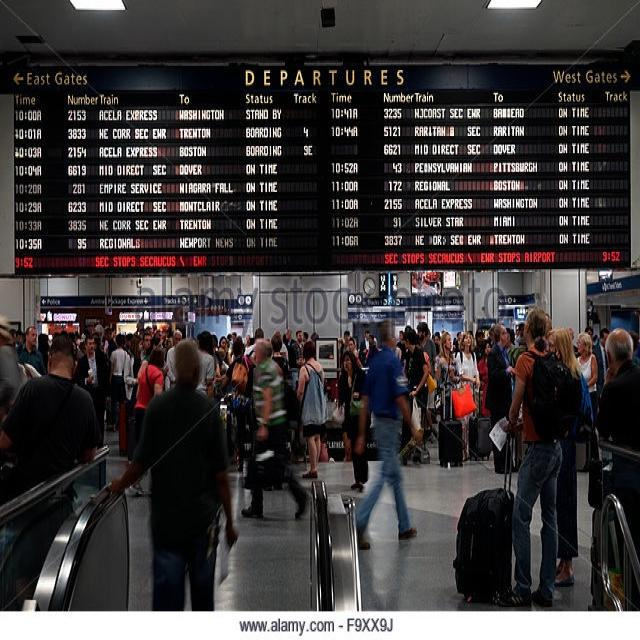body: (107, 336, 240, 613), (505, 305, 566, 606), (354, 317, 422, 554), (0, 331, 100, 484), (240, 335, 313, 523), (594, 326, 640, 613), (545, 327, 585, 586), (121, 344, 168, 498), (333, 348, 372, 492), (293, 338, 331, 482), (484, 322, 518, 475), (219, 338, 254, 474), (0, 316, 42, 429), (73, 331, 111, 451), (453, 331, 481, 464), (121, 331, 145, 466), (432, 329, 461, 424), (400, 326, 430, 414), (94, 330, 117, 430), (416, 319, 437, 424), (108, 332, 129, 434), (505, 323, 522, 442), (135, 321, 172, 369), (15, 324, 48, 376), (194, 329, 216, 398), (340, 334, 377, 372), (592, 325, 612, 395), (476, 338, 493, 418), (40, 329, 85, 358), (164, 326, 183, 389), (215, 329, 238, 378), (582, 296, 601, 352), (434, 329, 462, 366), (269, 331, 291, 378), (241, 325, 264, 367), (291, 414, 309, 462), (393, 328, 408, 378), (275, 328, 293, 365), (291, 329, 306, 371), (471, 328, 487, 365), (359, 328, 373, 368), (566, 325, 581, 357), (627, 324, 639, 362), (339, 329, 351, 364), (302, 329, 319, 346), (483, 329, 489, 364), (210, 334, 216, 368), (122, 331, 136, 345), (189, 332, 197, 345)
